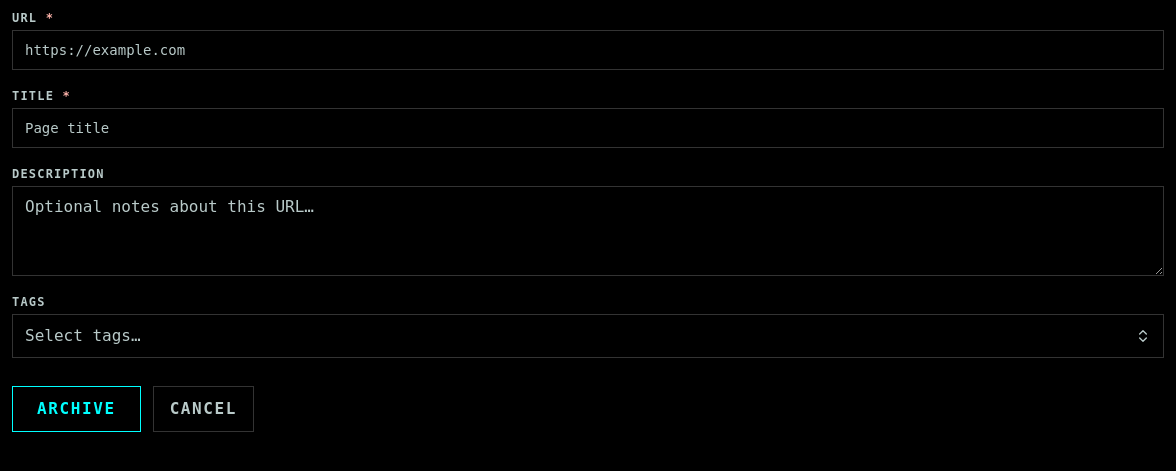
BookmarkForm — URL field validation (REQ-5) › should show URL required error when URL is left empty and field is blurred
Click the field labelled "URL *".
click(588, 50)  # box 12,30 -> 1164,70
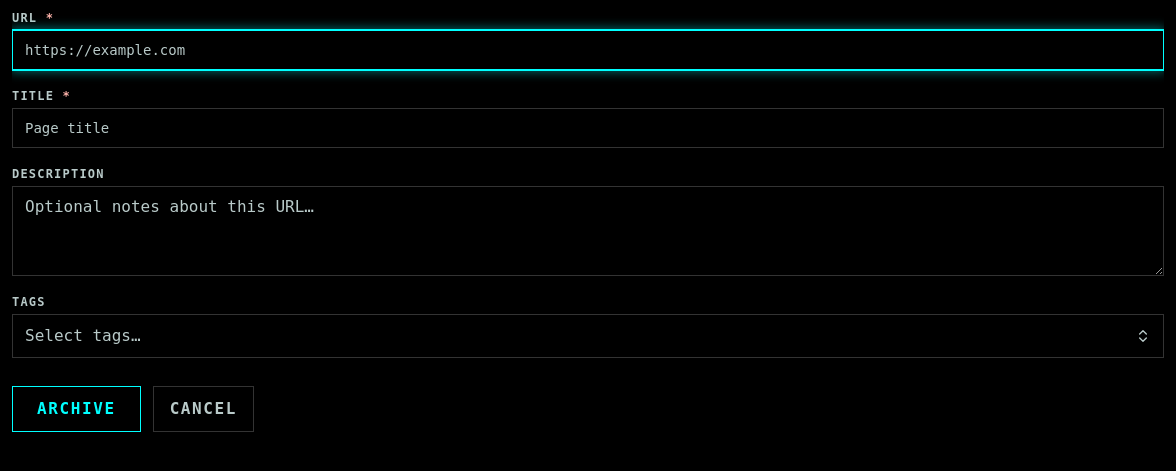
Press Tab
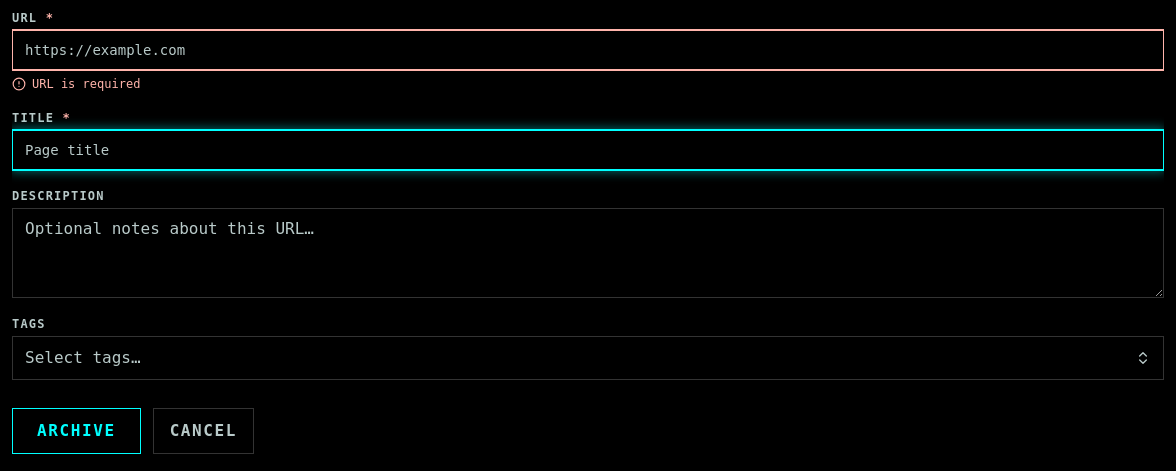
Now the message reads "URL is required", box 32,77 -> 140,91
